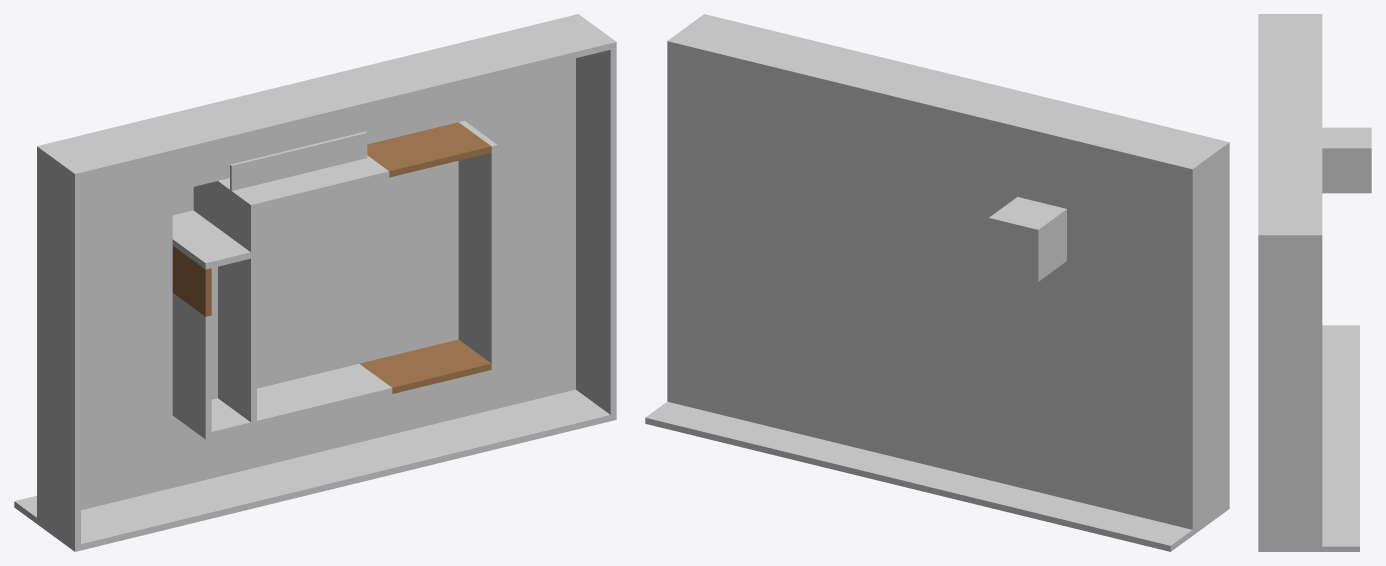
The model's file is tinker.obj.
3 views of the same model, side by side, from view 1: azimuth 30°, elevation 25°; view 2: azimuth 150°, elevation 25°; view 3: azimuth 270°, elevation 25° (orthographic). The views are drawn at different scales.
Parts seen in each view (by area): view 1: group_0_16448250, group_0_11107152; view 2: group_0_16448250; view 3: group_0_16448250.
Part boxes in pixels (x1,y1,x2,y2): group_0_16448250: (14,14,616,551); group_0_11107152: (172,122,491,393); group_0_16448250: (645,14,1229,551); group_0_16448250: (1258,14,1371,551).
Size of the model in its own units: 180 by 120 by 39.
